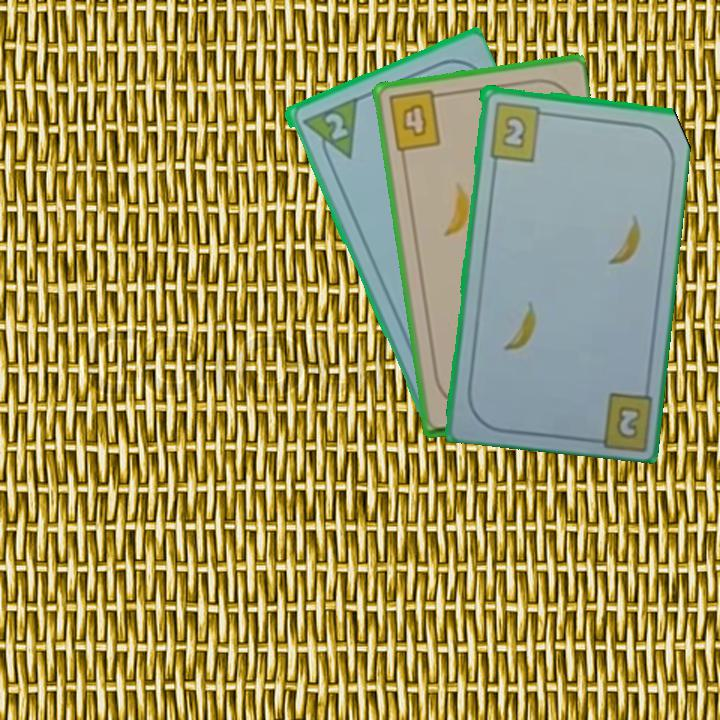2b: (486, 98, 552, 163), (612, 402, 644, 442)
2p: (298, 94, 360, 169)
4b: (384, 87, 447, 154)
